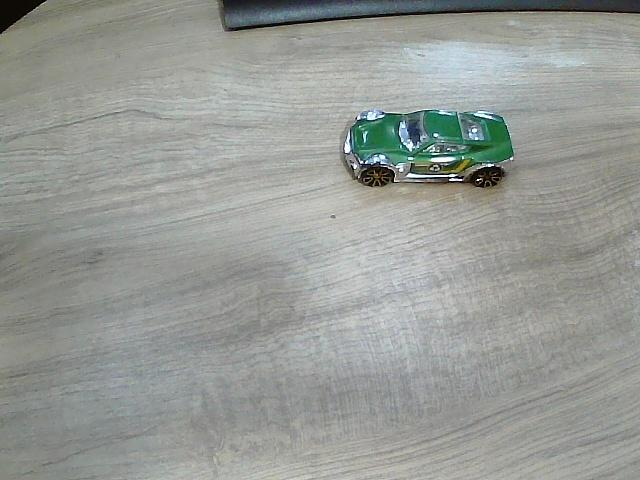Carro: (340, 109, 516, 188)
